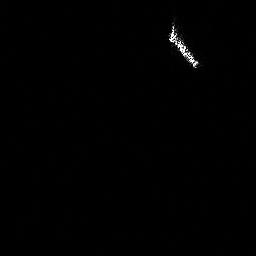ship: (166, 21, 201, 70)
